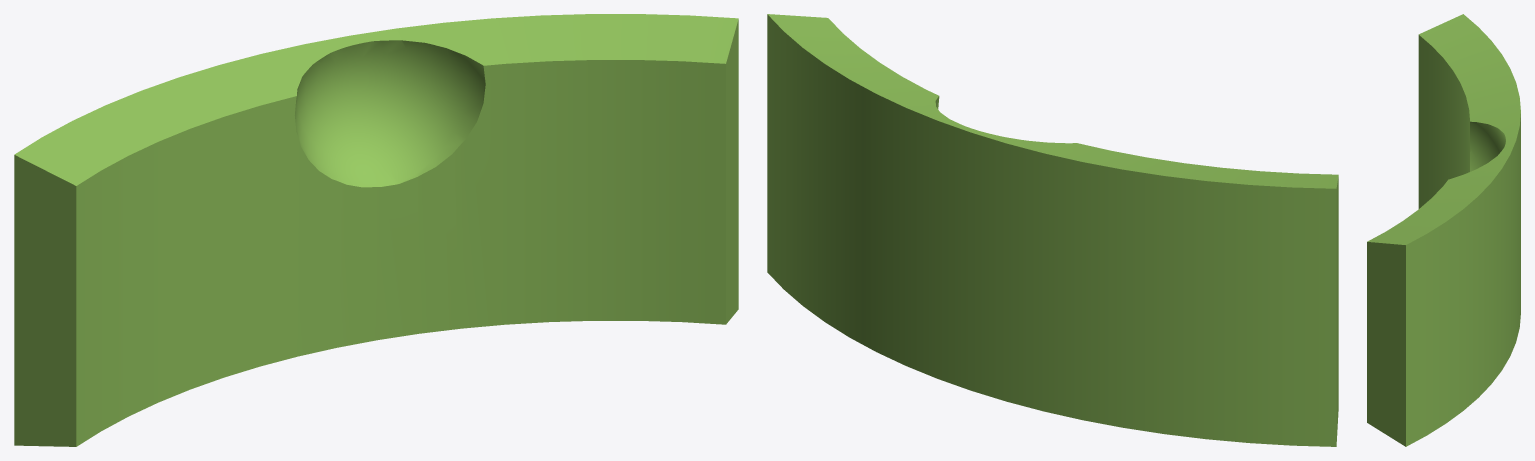
The model's file is CircleBlock15.obj.
The picture shows the model from 3 angles, left to right: view 1: azimuth 30°, elevation 25°; view 2: azimuth 150°, elevation 25°; view 3: azimuth 270°, elevation 25°; orthographic projection. The views are drawn at different scales.
Parts seen in each view (by area): view 1: CircleBlock15; view 2: CircleBlock15; view 3: CircleBlock15.
Boxes of the visible parts, <box> form: CircleBlock15: <box>14,14,738,446</box>; CircleBlock15: <box>767,14,1338,446</box>; CircleBlock15: <box>1367,14,1520,446</box>.
Bounding box in the file's own units: 12.62 × 5.14 × 3.55.
